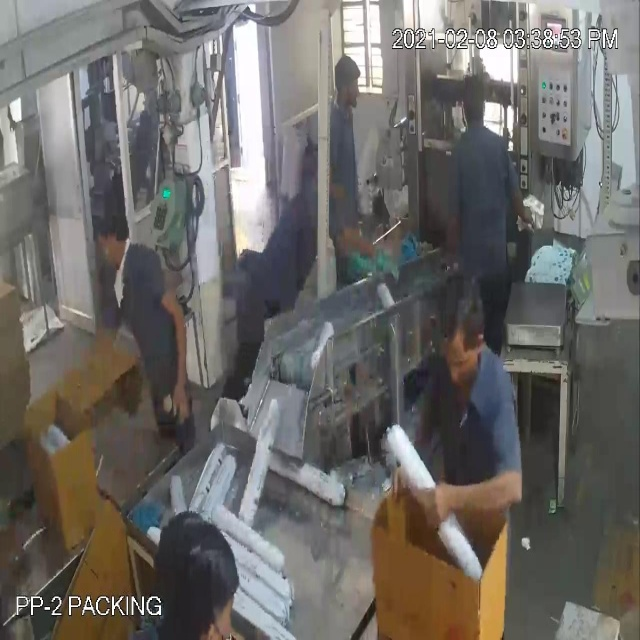Guantes: (331, 221, 393, 304)
Sin_guantes: (418, 448, 526, 564), (156, 280, 204, 420)
